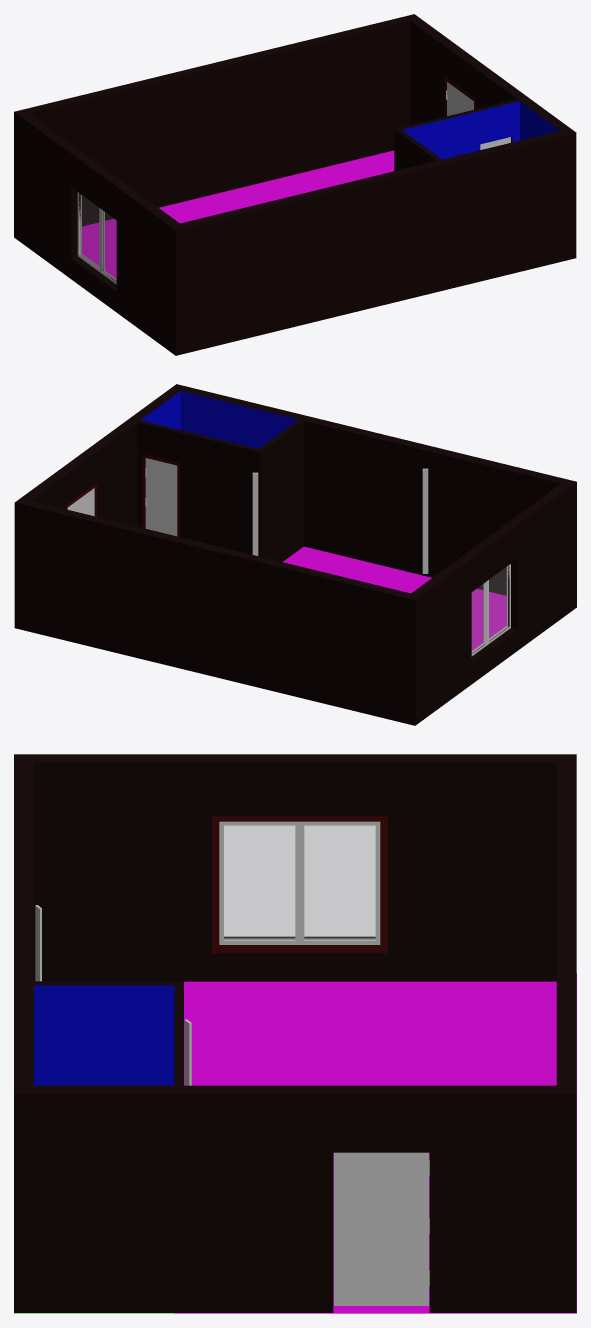
The model's file is appp.fbx.
3 views of the same model, one above another, from view 1: azimuth 30°, elevation 25°; view 2: azimuth 150°, elevation 25°; view 3: azimuth 270°, elevation 25° (orthographic). The views are drawn at different scales.
Parts seen in each view (by area): view 1: pCube1, pPlane4, polySurface24, polySurface25, polySurface21, polySurface23, polySurface22, pCube64; view 2: pCube1, pPlane4, pCube65, polySurface23, polySurface22, polySurface24, polySurface21, pCube67, polySurface25, pCube46, pCube64; view 3: pCube1, pPlane4, pCube64, polySurface22, polySurface25, polySurface23, polySurface24, polySurface21.
Part boxes in pixels (left/top/right/bottom): pCube1: left=14, top=14, right=576, bottom=355; pPlane4: left=82, top=150, right=394, bottom=278; polySurface24: left=79, top=194, right=98, bottom=268; polySurface25: left=82, top=196, right=98, bottom=265; polySurface21: left=77, top=192, right=116, bottom=284; polySurface23: left=102, top=210, right=115, bottom=280; polySurface22: left=105, top=213, right=115, bottom=278; pCube64: left=447, top=82, right=473, bottom=116; pCube1: left=14, top=384, right=576, bottom=725; pPlane4: left=283, top=546, right=506, bottom=650; pCube65: left=145, top=458, right=177, bottom=536; polySurface23: left=489, top=566, right=508, bottom=640; polySurface22: left=489, top=567, right=506, bottom=637; polySurface24: left=472, top=583, right=485, bottom=652; polySurface21: left=471, top=564, right=510, bottom=656; pCube67: left=422, top=468, right=428, bottom=573; polySurface25: left=472, top=584, right=483, bottom=650; pCube46: left=252, top=472, right=258, bottom=555; pCube64: left=67, top=488, right=94, bottom=516; pCube1: left=14, top=754, right=576, bottom=1312; pPlane4: left=14, top=973, right=576, bottom=1313; pCube64: left=334, top=1152, right=428, bottom=1305; polySurface22: left=224, top=826, right=294, bottom=939; polySurface25: left=305, top=826, right=374, bottom=939; polySurface23: left=224, top=826, right=294, bottom=937; polySurface24: left=305, top=826, right=374, bottom=937; polySurface21: left=219, top=821, right=380, bottom=944.
Bounding box in the file's own units: 10.02 × 3 × 7.
